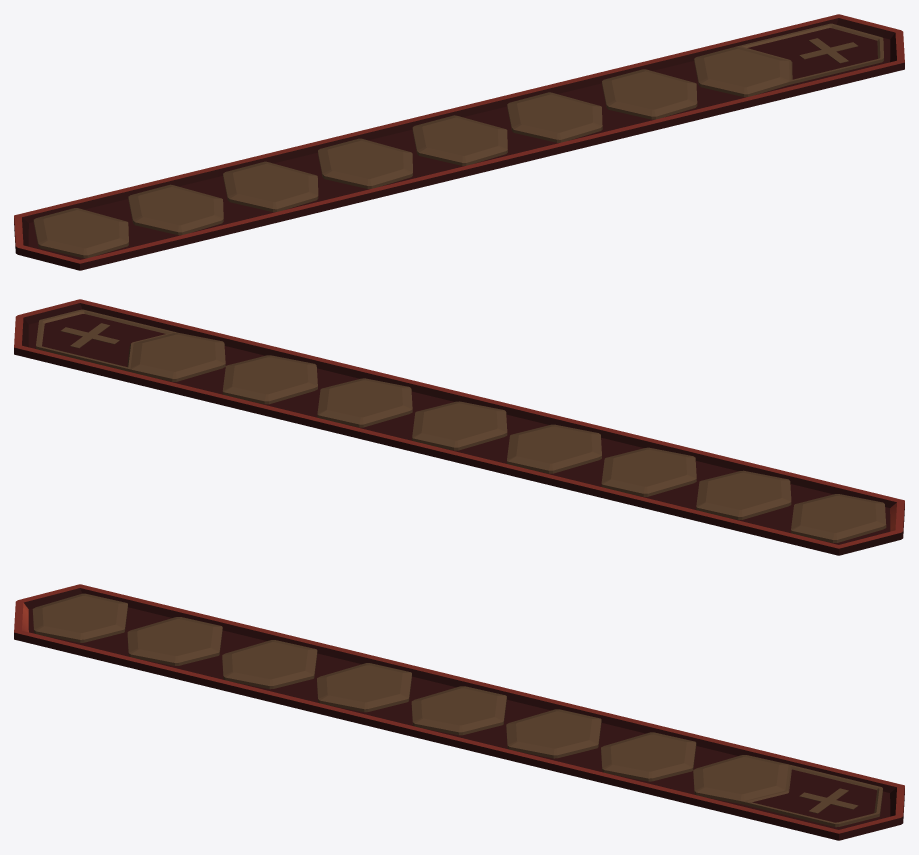
The model's file is ManaSelectionTray.glb.
3 renders of one model, top to bottom at view 1: azimuth 30°, elevation 25°; view 2: azimuth 150°, elevation 25°; view 3: azimuth 330°, elevation 25°, orthographic.
Parts seen in each view (by area): view 1: Tray; view 2: Tray; view 3: Tray.
Part boxes in pixels (x1=…): Tray: x1=14, y1=14, x2=904, y2=270; Tray: x1=14, y1=299, x2=904, y2=555; Tray: x1=14, y1=584, x2=904, y2=840.
Size of the model in its own units: 13.15 by 0.1288 by 1.7.
Materials: 1 (1 with a texture image).
